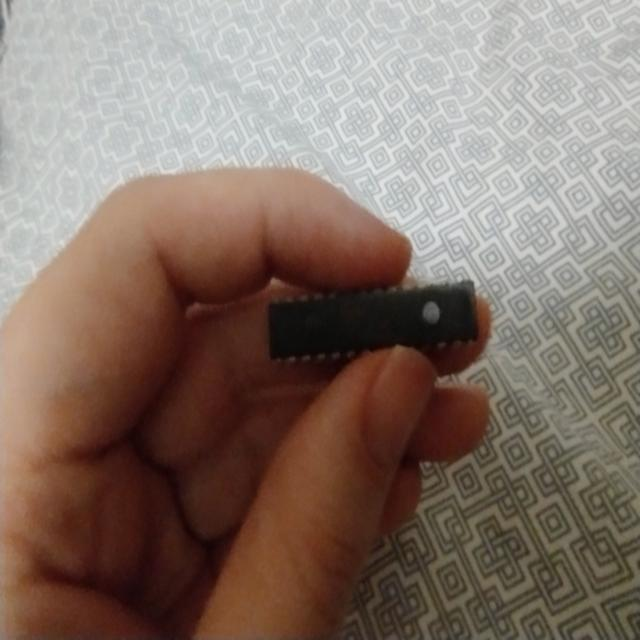atmega: (264, 275, 480, 369)
